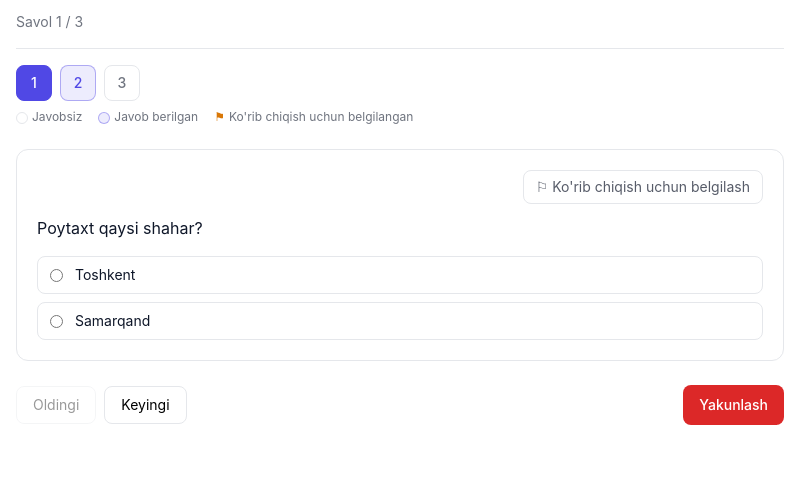
Test: AttemptPage — Sprint 67 (C2) multiple_choice support › TEST 10: an attempt loaded with existing selected_options renders them as checked
Expected: the text "Toshkent" is shown, [75,265,135,285]
Click the button "Keyingi": click(145, 405) [104,386,187,424]
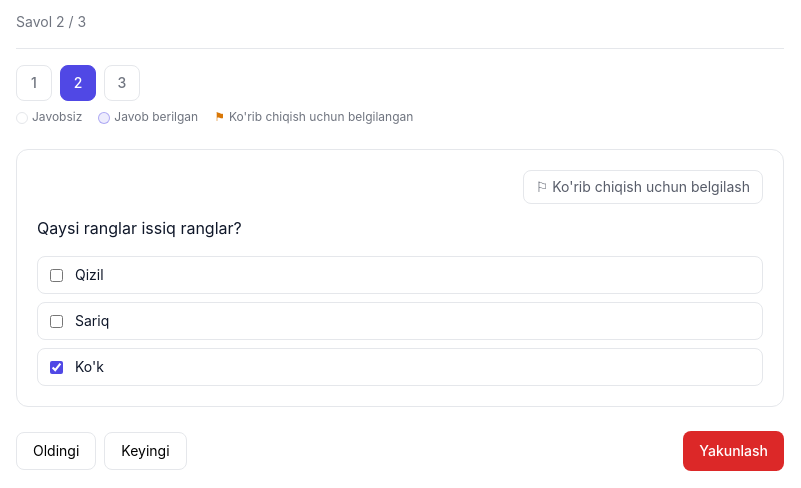
Expected: the text "Ko'k" is shown, [75,357,104,377]
Expected: the checkbox labelled "Ko'k" is checked, [50,360,63,374]
Expected: the checkbox labelled "Qizil" is not checked, [50,268,63,282]
